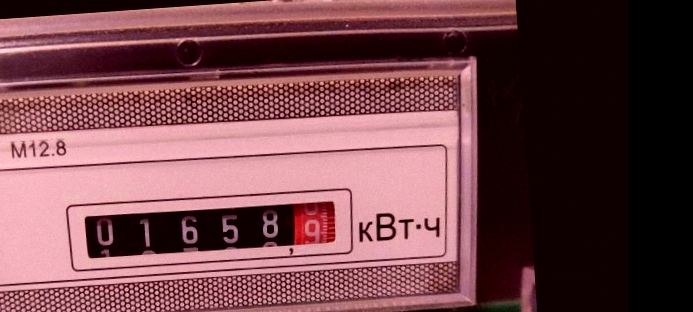0: (92, 215, 114, 246)
1: (135, 215, 155, 248)
5: (217, 211, 240, 243)
6: (177, 211, 200, 245)
8: (258, 205, 280, 239)
9: (299, 216, 322, 246)
screen: (55, 176, 360, 280)
